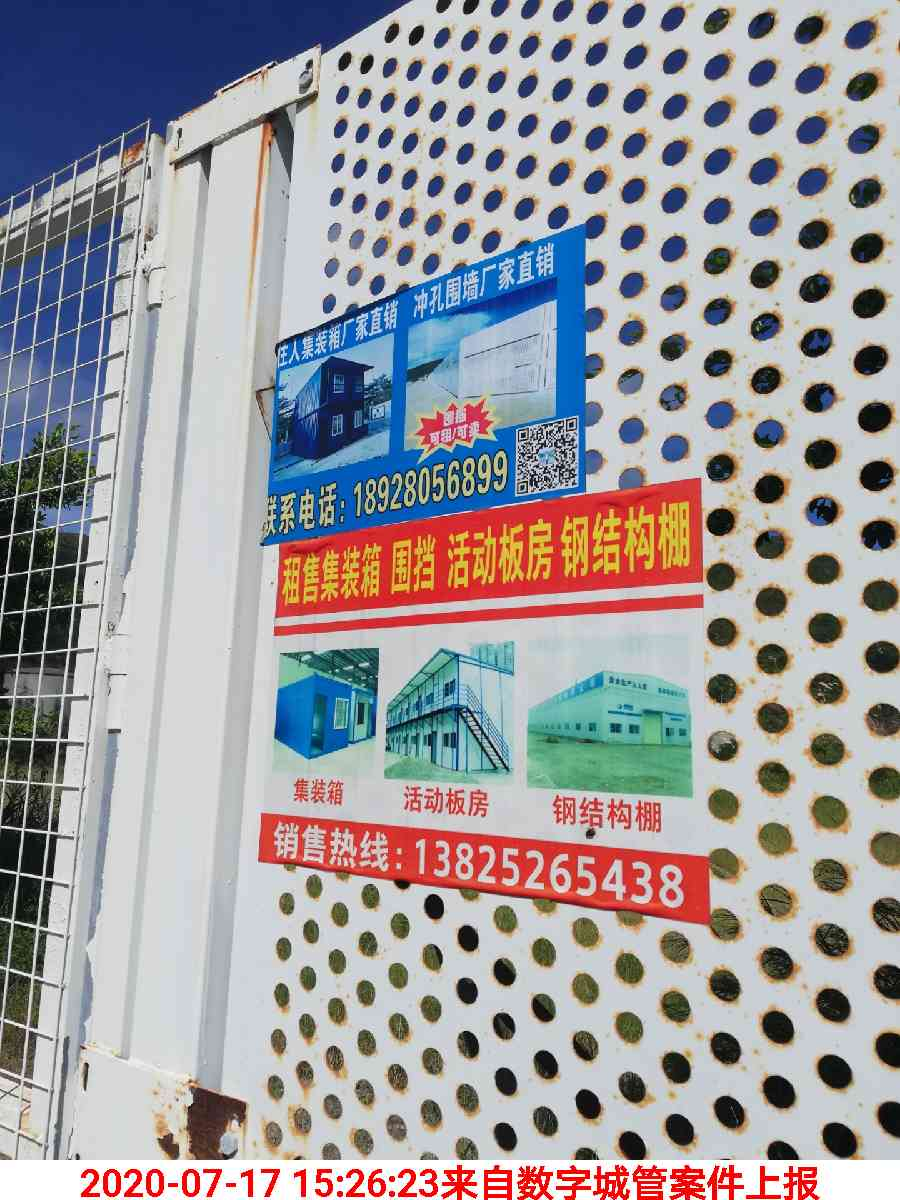paper: (229, 319, 781, 937)
